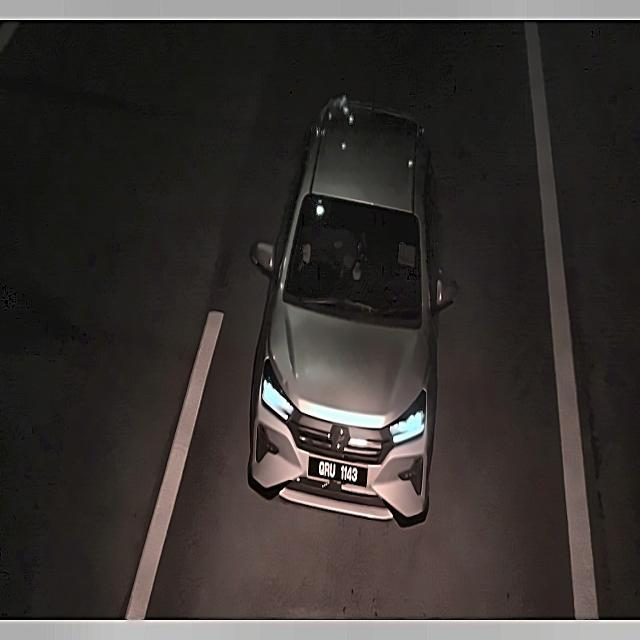car: (302, 448, 372, 492)
